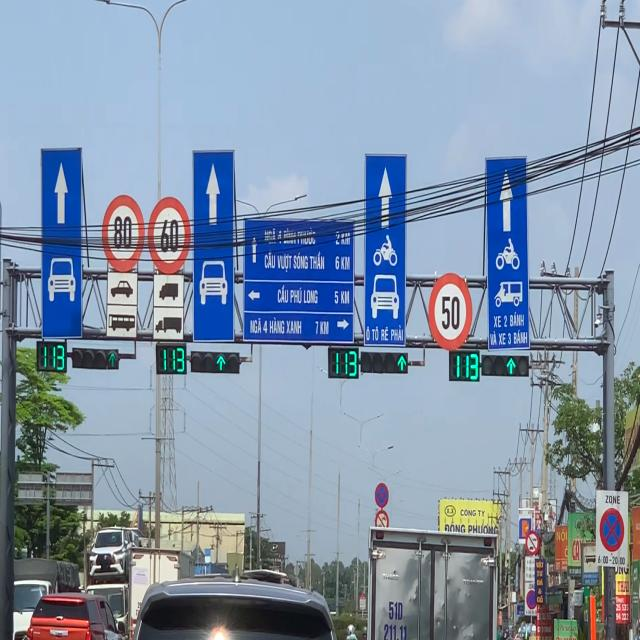Ben xe buyt: (580, 542, 597, 585)
Cam con lai: (525, 530, 541, 558), (375, 508, 389, 528)
Cam dung va do: (598, 507, 626, 554), (373, 481, 390, 509)
Toc do toi da: (428, 272, 472, 349), (101, 195, 146, 270), (147, 196, 190, 272)
